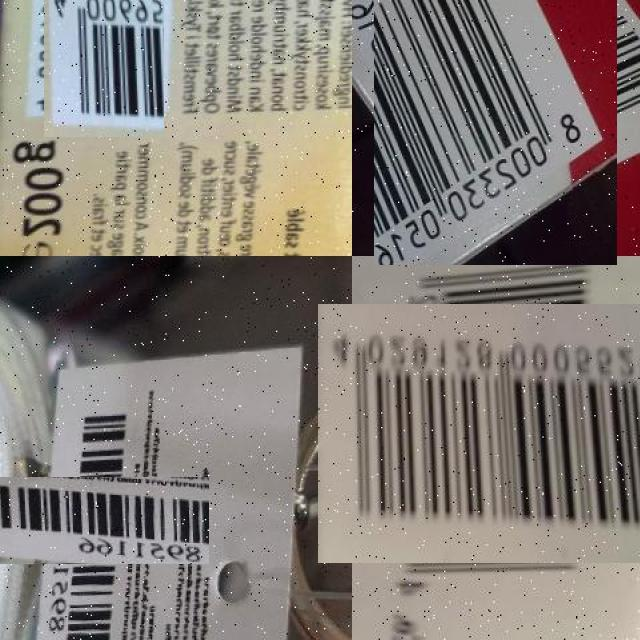Barcode: (341, 280, 640, 586), (363, 0, 628, 254), (8, 439, 171, 602), (35, 0, 172, 129)
